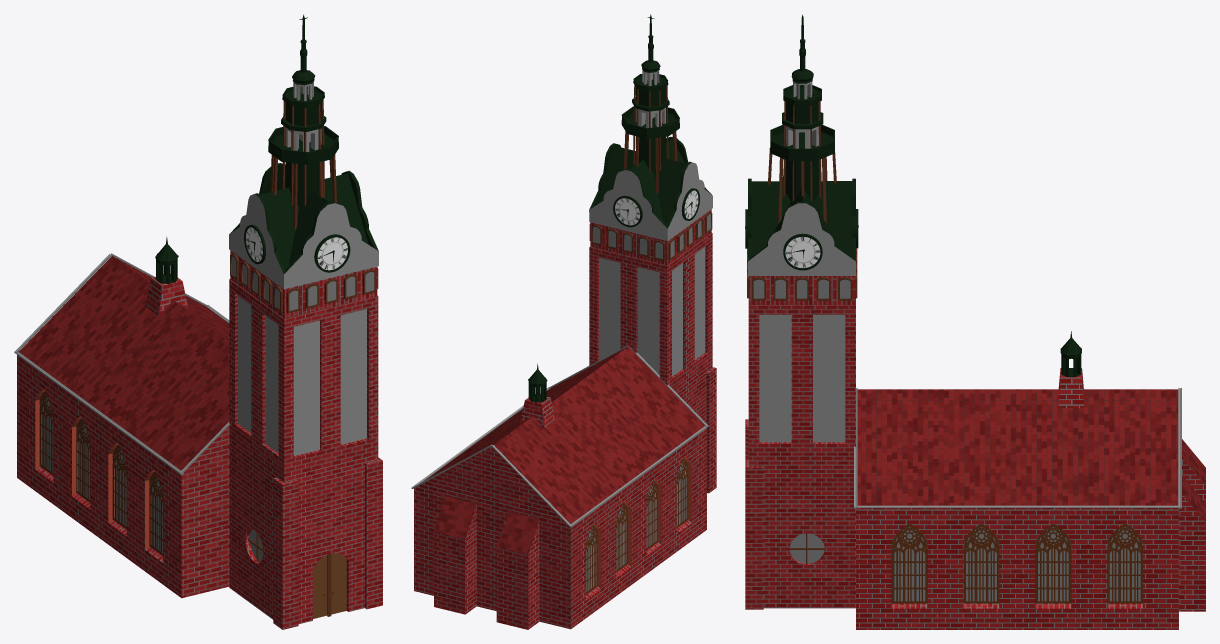
The model's file is Church.fbx.
3 renders of one model, left to right at view 1: azimuth 30°, elevation 25°; view 2: azimuth 150°, elevation 25°; view 3: azimuth 270°, elevation 25°, orthographic. The views are drawn at different scales.
Visible parts, largest first — view 1: katedra wieża (white concrete).001, dach, ściany, katedra wieża (white concrete), katedra wieża (oxidised copper), katedra wieża.001, Big Windows, katedra wieża (dark wood), Drzwi, wcięcia okienne, rama zegara.003, daszek (+7 smaller); view 2: ściany, dach, katedra wieża (white concrete).001, katedra wieża (white concrete), katedra wieża (oxidised copper), katedra wieża.001, Big Windows, wcięcia okienne, katedra wieża (dark wood), rama zegara.002, daszek, Church Window Frame.009 (+6 smaller); view 3: dach, ściany, katedra wieża (white concrete).001, katedra wieża (white concrete), Big Windows, katedra wieża (oxidised copper), katedra wieża.001, Church Window Frame.003, Church Window Frame.005, Church Window Frame.004, Church Window Frame, katedra wieża (dark wood) (+5 smaller).
Part boxes in pixels (x1,y1,x2,y2): katedra wieża (white concrete).001: [229, 250, 382, 629]; dach: [19, 256, 229, 470]; ściany: [17, 355, 229, 598]; katedra wieża (white concrete): [229, 81, 378, 456]; katedra wieża (oxidised copper): [230, 14, 378, 273]; katedra wieża.001: [268, 86, 338, 207]; Big Windows: [41, 395, 162, 553]; katedra wieża (dark wood): [270, 100, 336, 230]; Drzwi: [313, 553, 346, 618]; wcięcia okienne: [35, 389, 154, 549]; rama zegara.003: [314, 234, 350, 272]; daszek: [145, 273, 188, 315]; ściany: [414, 428, 706, 629]; dach: [425, 346, 704, 554]; katedra wieża (white concrete).001: [589, 209, 716, 493]; katedra wieża (white concrete): [589, 70, 712, 376]; katedra wieża (oxidised copper): [589, 14, 711, 228]; katedra wieża.001: [621, 73, 679, 173]; Big Windows: [586, 461, 686, 591]; wcięcia okienne: [593, 457, 691, 588]; katedra wieża (dark wood): [624, 85, 677, 193]; rama zegara.002: [613, 195, 642, 227]; daszek: [520, 394, 555, 429]; Church Window Frame.009: [676, 458, 688, 527]; dach: [857, 389, 1205, 521]; ściany: [856, 457, 1205, 629]; katedra wieża (white concrete).001: [745, 276, 855, 609]; katedra wieża (white concrete): [748, 81, 855, 442]; Big Windows: [891, 523, 1142, 601]; katedra wieża (oxidised copper): [748, 14, 855, 260]; katedra wieża.001: [770, 85, 834, 201]; Church Window Frame.003: [963, 524, 999, 603]; Church Window Frame.005: [1107, 524, 1142, 603]; Church Window Frame.004: [1035, 524, 1071, 603]; Church Window Frame: [891, 523, 927, 603]; katedra wieża (dark wood): [768, 101, 836, 223].
Bounding box in the file's own units: 1222 × 3518 × 2567.
13 materials, 7 textured.
